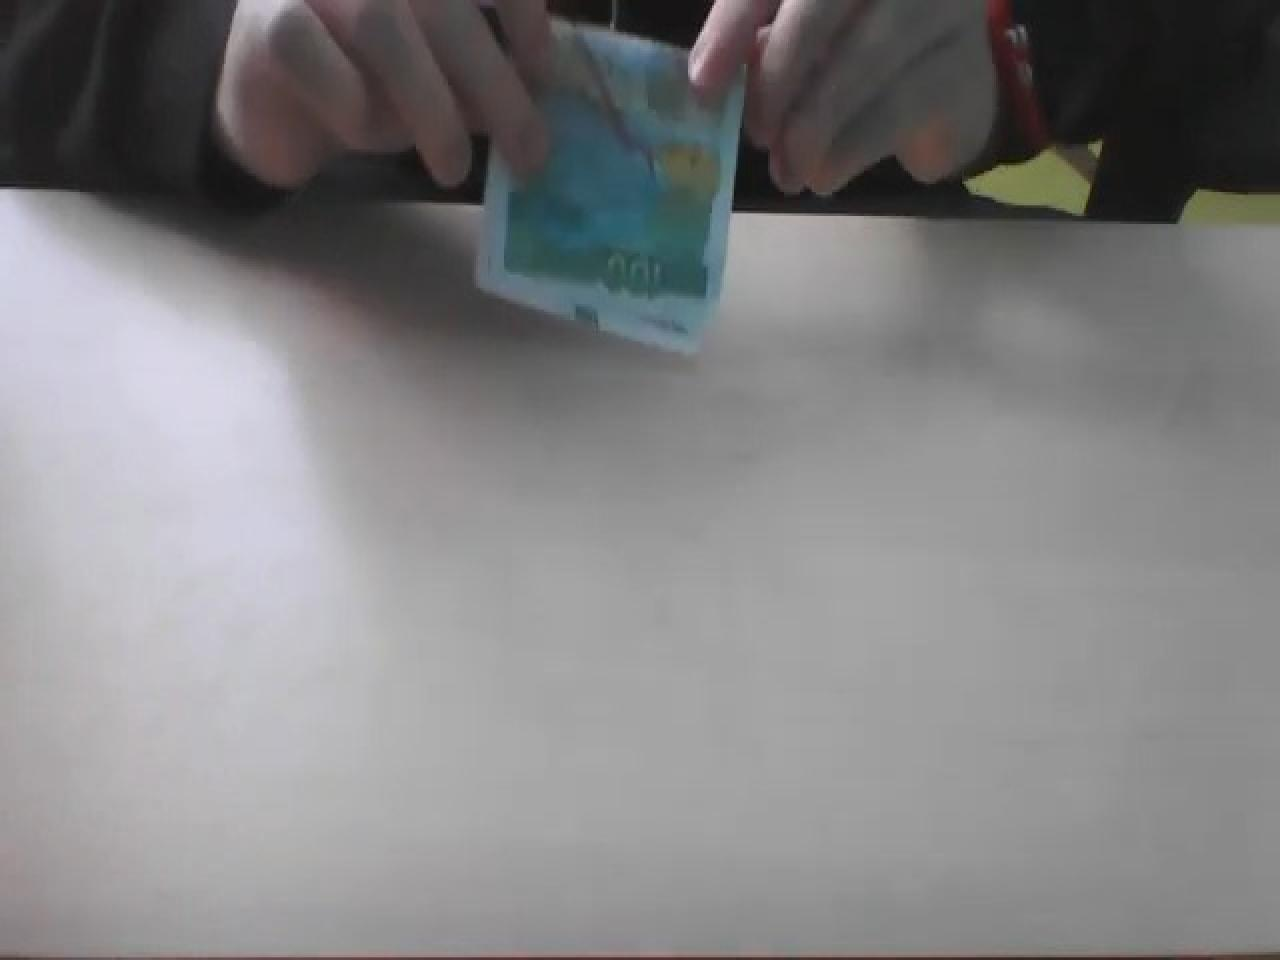100leva: (478, 19, 748, 357)
